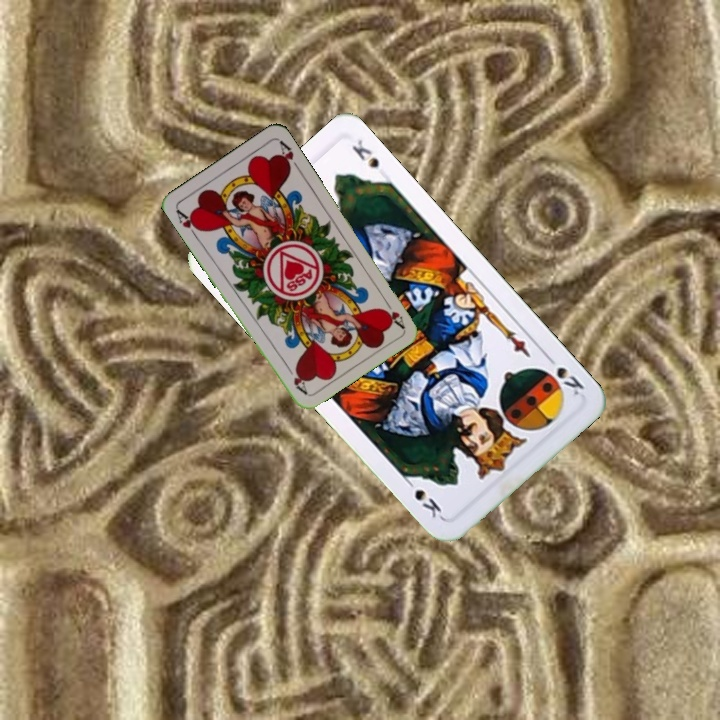HA: (172, 205, 204, 241), (379, 294, 407, 330)
SK: (541, 350, 587, 398)
